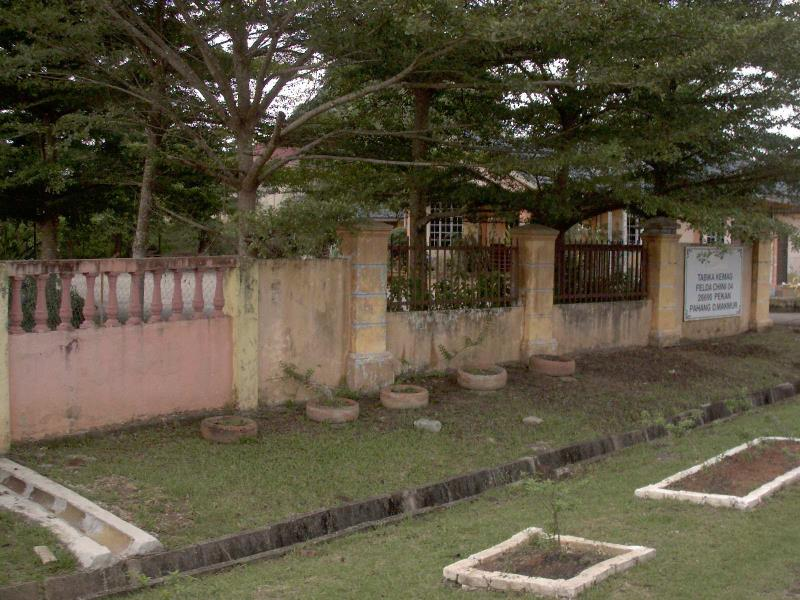ads_sign: (676, 240, 753, 328)
